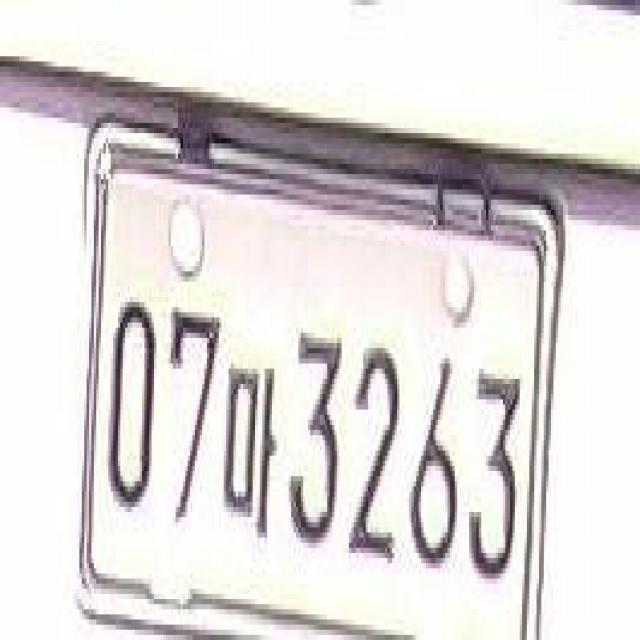illegal_plate: (86, 131, 570, 632)
